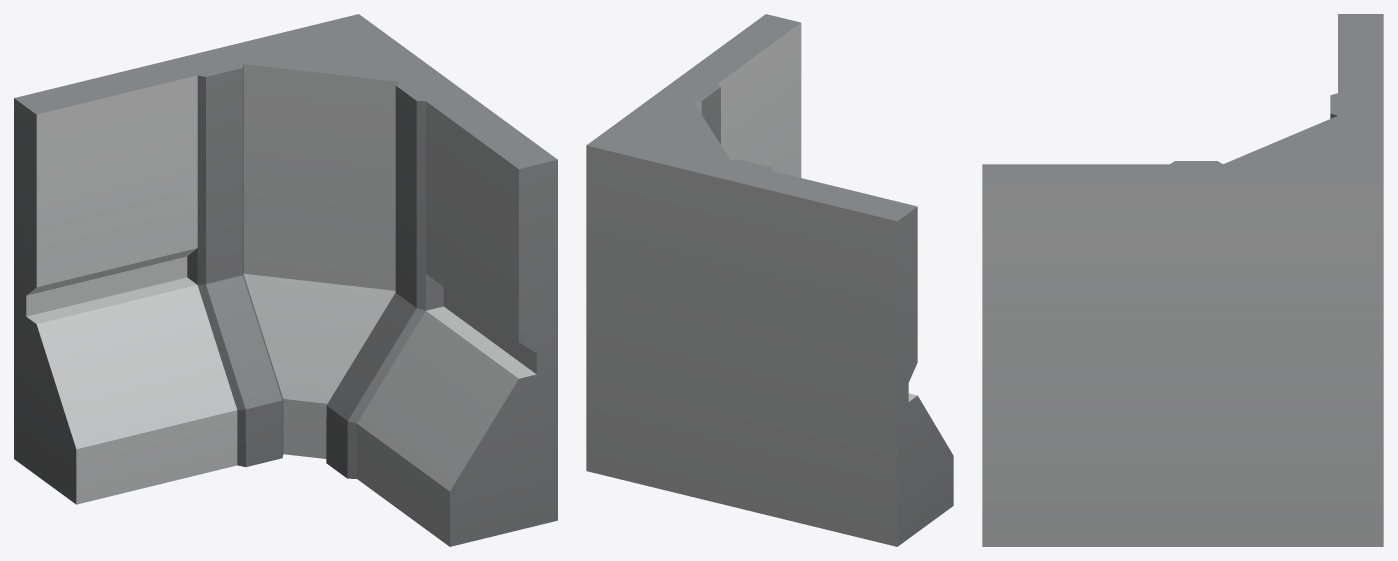
The model's file is Wall_type_A_029.fbx.
3 renders of one model, left to right at view 1: azimuth 30°, elevation 25°; view 2: azimuth 150°, elevation 25°; view 3: azimuth 270°, elevation 25°, orthographic. The views are drawn at different scales.
Parts seen in each view (by area): view 1: Wall_type_A_029; view 2: Wall_type_A_029; view 3: Wall_type_A_029.
Part boxes in pixels (<box>): Wall_type_A_029: <box>14,14,557,546</box>; Wall_type_A_029: <box>586,14,953,546</box>; Wall_type_A_029: <box>982,14,1383,546</box>.
Bounding box in the file's own units: 150 × 150 × 150.
